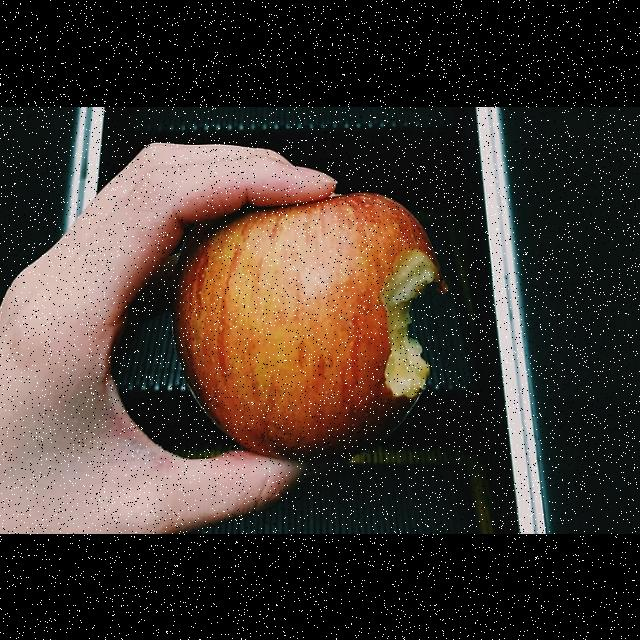Apel Segar: (168, 186, 460, 506)
